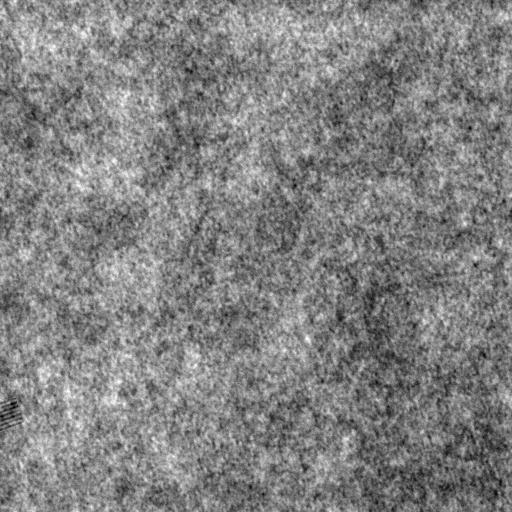DefectTypeB: (1, 396, 22, 434)
